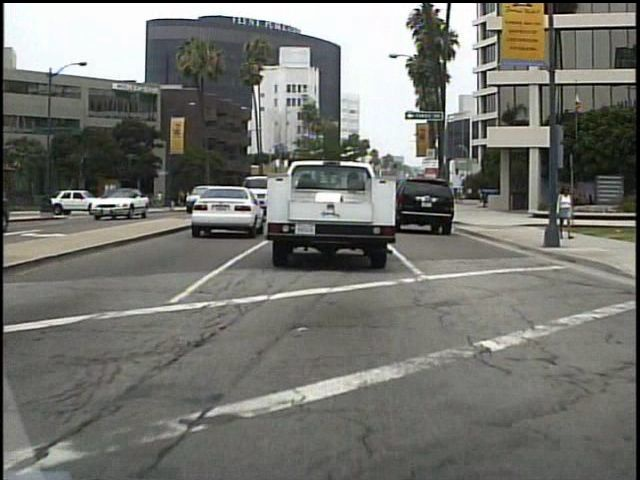person: (556, 178, 577, 245), (115, 181, 130, 218), (113, 190, 128, 220), (157, 188, 167, 213)
